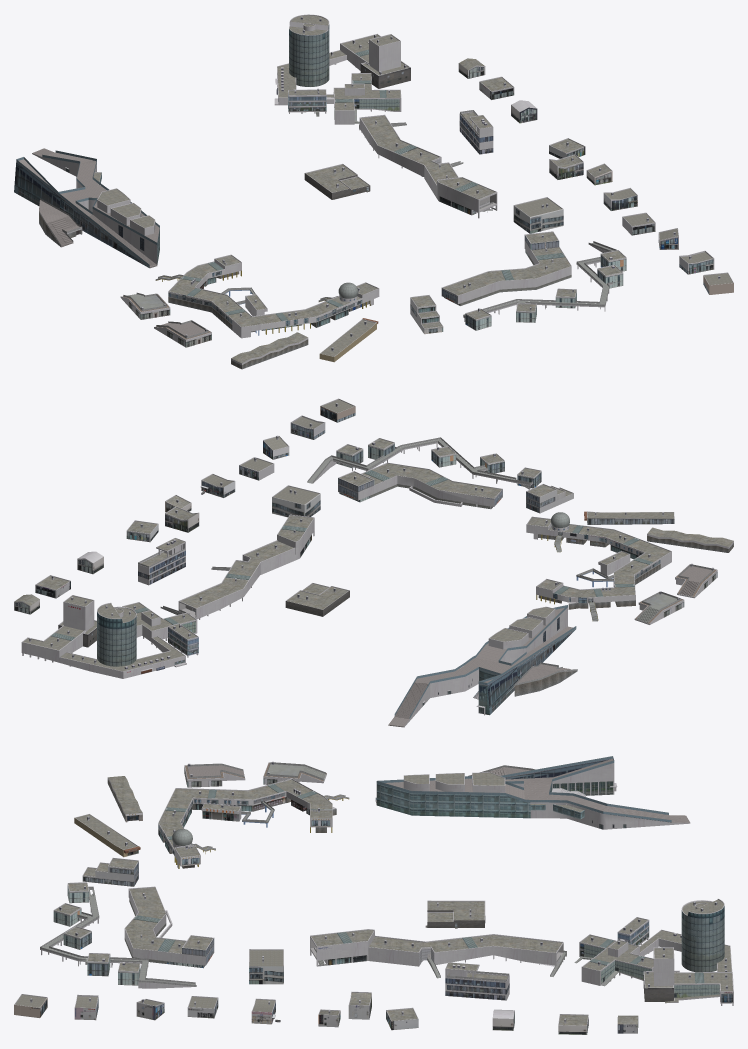
Rendered from YSZX_QY17.FBX.
3 renders of one model, top to bottom at view 1: azimuth 30°, elevation 25°; view 2: azimuth 150°, elevation 25°; view 3: azimuth 270°, elevation 25°, orthographic. The views are drawn at different scales.
Visible parts, largest first — view 1: YSZX_QY17; view 2: YSZX_QY17; view 3: YSZX_QY17.
Part boxes in pixels (x1,y1,x2,y2): YSZX_QY17: [14, 14, 733, 369]; YSZX_QY17: [14, 398, 733, 727]; YSZX_QY17: [14, 756, 733, 1034].
Bounding box in the file's own units: 31620 × 3404 × 36405.
Materials: 30 (30 with a texture image).
